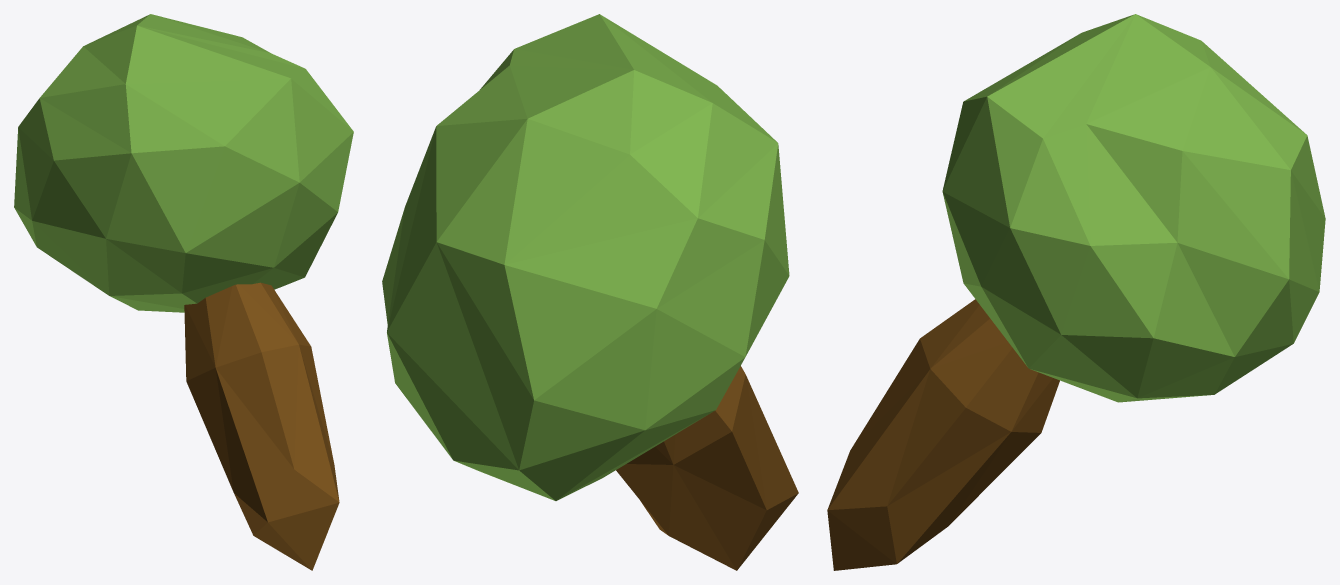
File: tree18.dae
The picture shows the model from 3 angles, left to right: view 1: azimuth 30°, elevation 25°; view 2: azimuth 150°, elevation 25°; view 3: azimuth 270°, elevation 25°; orthographic projection. The views are drawn at different scales.
Visible parts, largest first — view 1: Icosphere_059; view 2: Icosphere_059; view 3: Icosphere_059.
Boxes of the visible parts, left/top/right/bottom form: Icosphere_059: left=14, top=14, right=353, bottom=570; Icosphere_059: left=382, top=14, right=798, bottom=570; Icosphere_059: left=827, top=14, right=1325, bottom=570.
Size of the model in its own units: 0.755 by 1.04 by 1.22.
